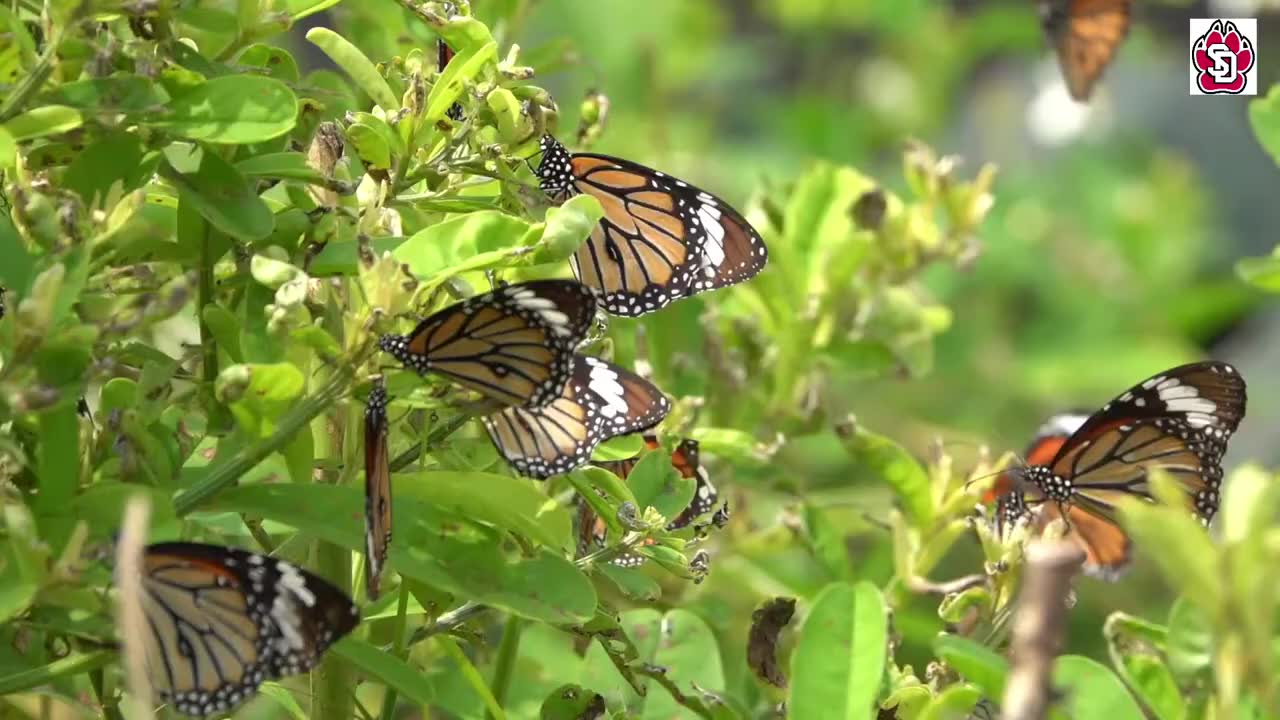Butterfly: (120, 539, 360, 720), (536, 132, 769, 301), (1029, 366, 1249, 526), (389, 277, 596, 414), (1043, 1, 1132, 106), (365, 374, 396, 601)
